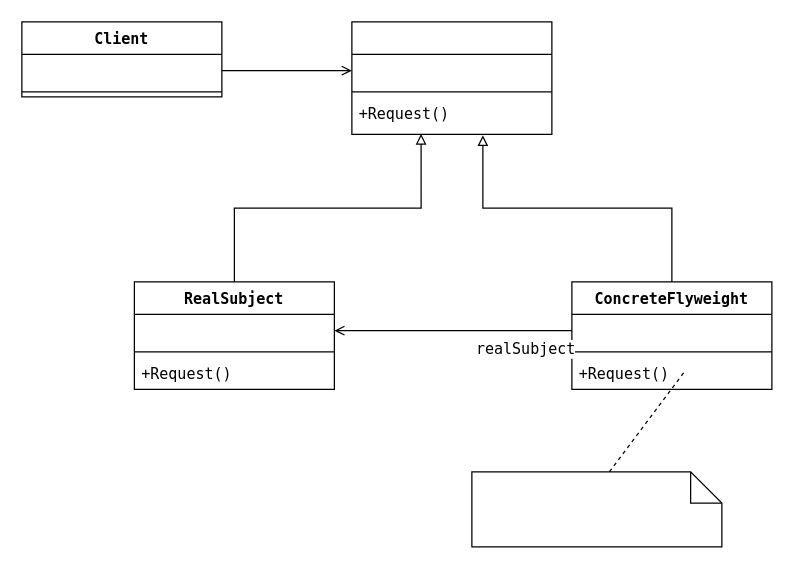
Image size: 794x569. Some labels were removed from this diagram. The box of each missing label's shape, as (x1, y1, x2, y2) in pixels:
realSubject.Request(): (471, 471, 722, 547)
Subject: (351, 21, 552, 134)
